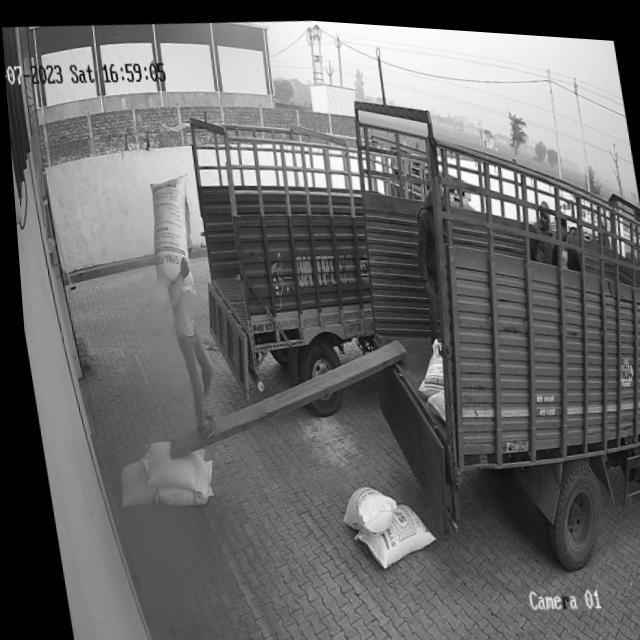sack: (137, 168, 198, 289), (340, 491, 431, 568), (132, 433, 203, 495), (329, 476, 393, 535), (141, 453, 210, 507), (106, 454, 150, 506)
